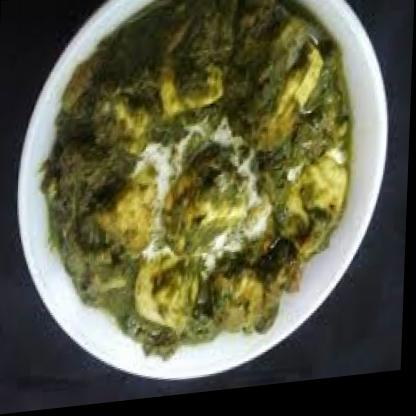palak_paneer: (35, 0, 356, 376)
